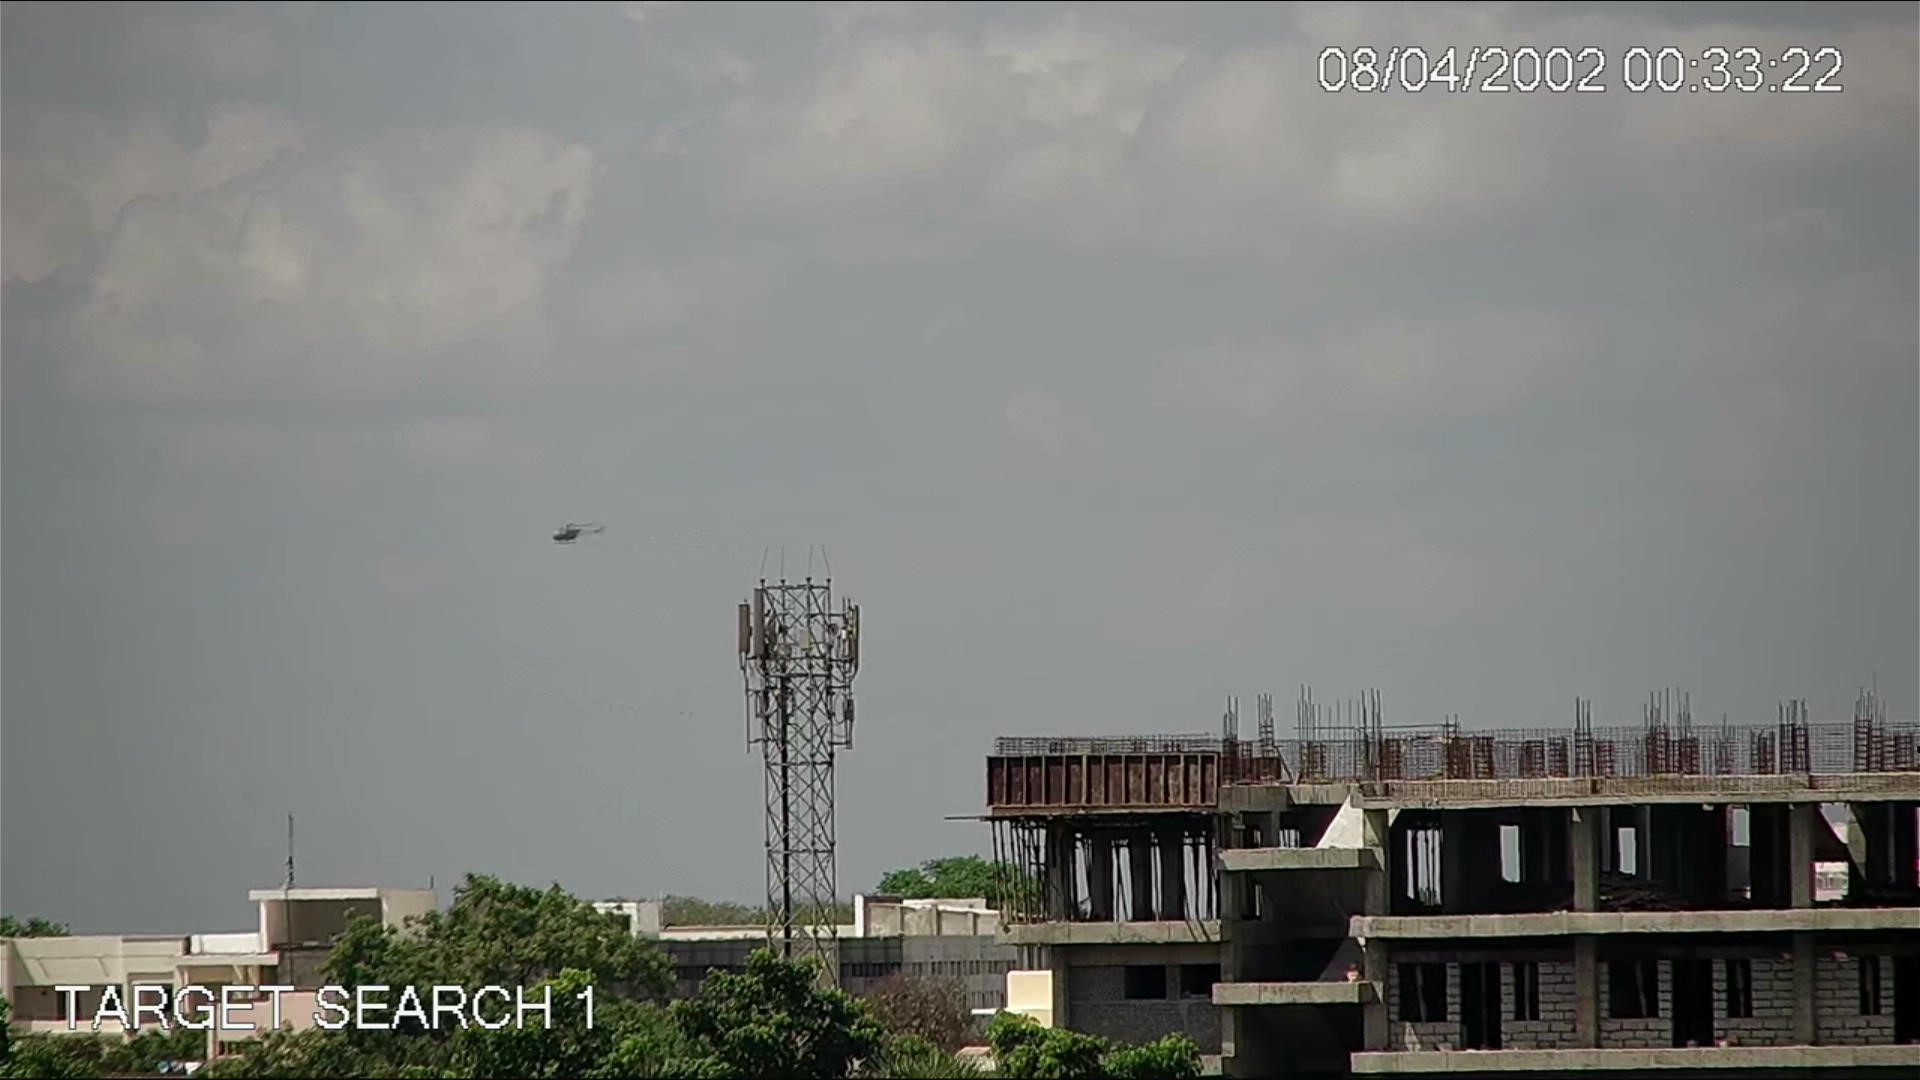SU_30: (549, 518, 608, 546)
